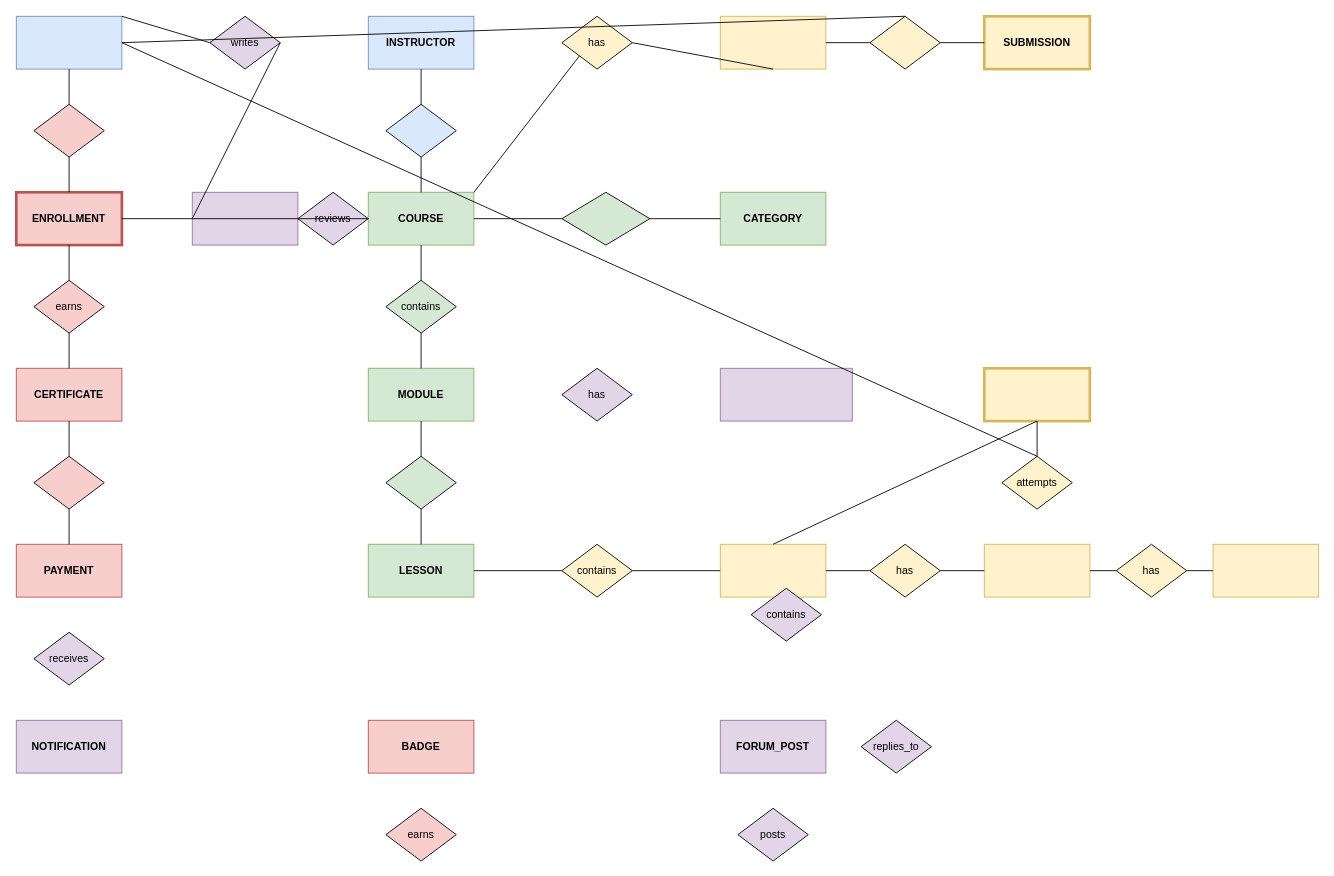
Some shapes in this 1334 by 876 pixel diagram are drawn without their labels. Each missing label, with the centre of its shape:
"ANSWER_OPTION" belongs at (1265,570).
"ASSIGNMENT" belongs at (772,42).
"belongs_to" belongs at (605,218).
"DISCUSSION_FORUM" belongs at (785,394).
"enrolls_in" belongs at (68,130).
"includes" belongs at (420,482).
"paid_by" belongs at (68,482).
"QUESTION" belongs at (1036,570).
"QUIZ" belongs at (772,570).
"QUIZ_ATTEMPT" belongs at (1037,394).
"REVIEW" belongs at (244,218).
"STUDENT" belongs at (68,42).
"submits" belongs at (904,42).
"teaches" belongs at (420,130).
